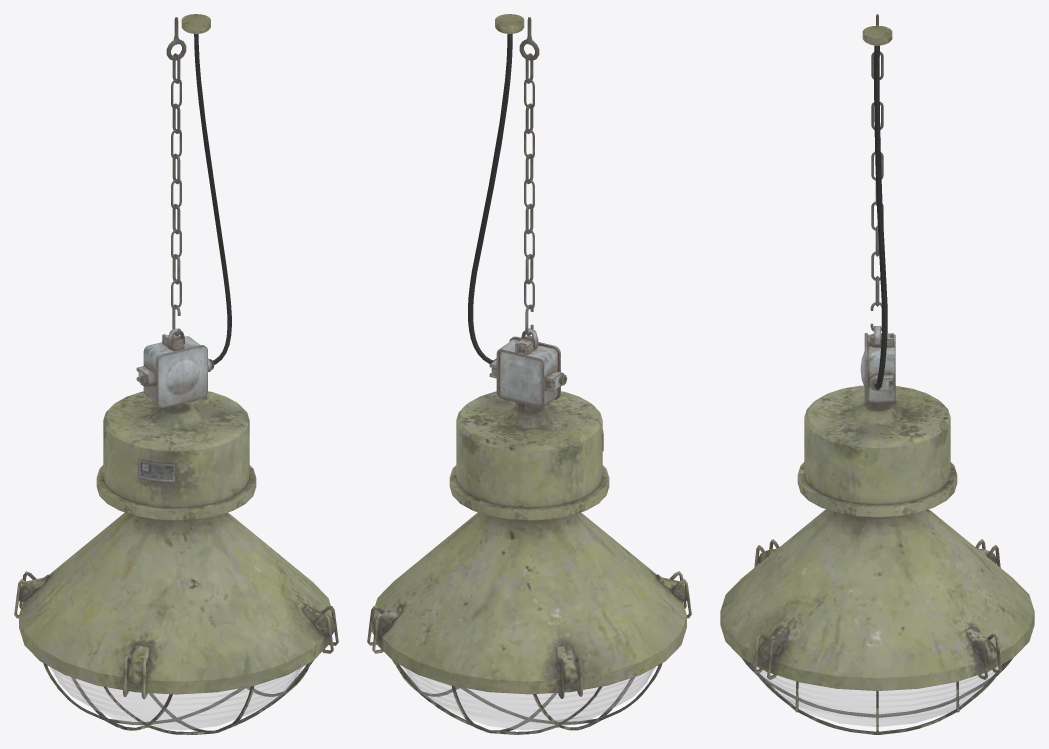
The model's file is hanging_industrial_lamp.033aca87.glb.
The picture shows the model from 3 angles, left to right: view 1: azimuth 30°, elevation 25°; view 2: azimuth 150°, elevation 25°; view 3: azimuth 270°, elevation 25°; orthographic projection.
Visible parts, largest first — view 1: hanging_industrial_lamp; view 2: hanging_industrial_lamp; view 3: hanging_industrial_lamp.
Boxes of the visible parts, left/top/right/bottom form: hanging_industrial_lamp: left=14, top=14, right=338, bottom=734; hanging_industrial_lamp: left=367, top=14, right=691, bottom=734; hanging_industrial_lamp: left=720, top=14, right=1034, bottom=734.
Size of the model in its own units: 0.4056 by 1 by 0.4056.
2 materials, 1 textured.
